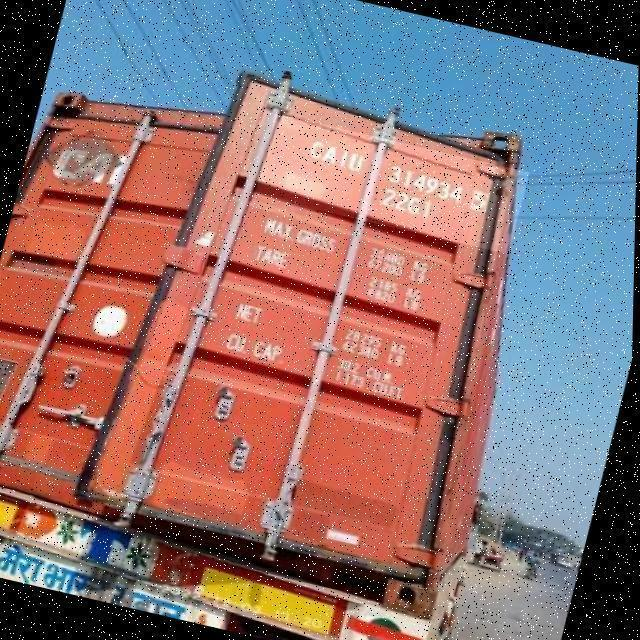ISO: (377, 187, 439, 224)
container_number: (303, 133, 489, 206)
